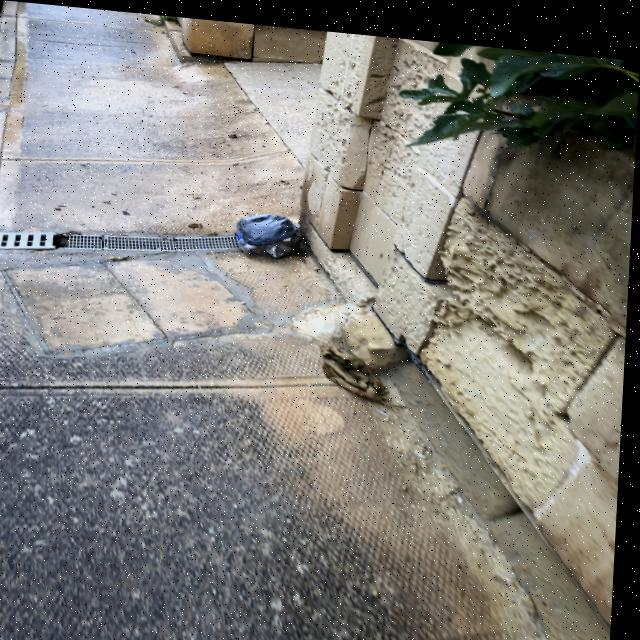Mixed Waste -Black Bag-: (239, 204, 310, 255)
Other: (321, 336, 409, 398)
